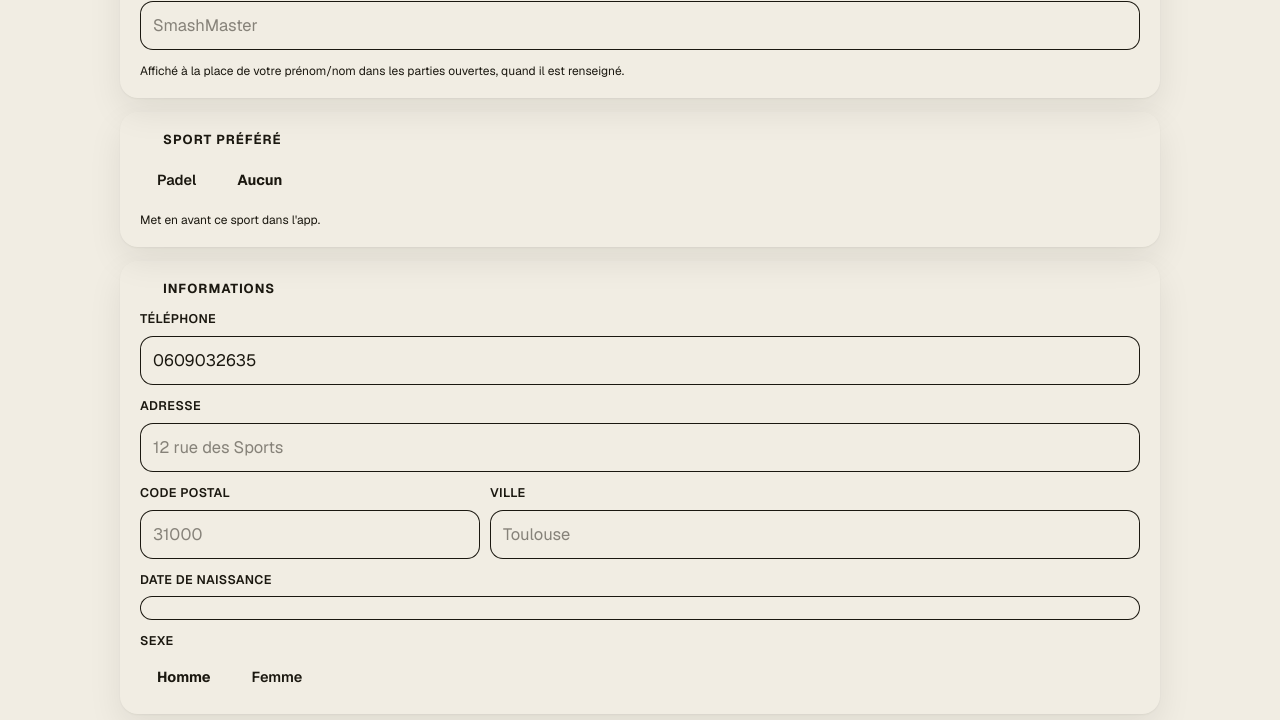
Page Mon profil — onglets + SaveBar › Annuler restaure le brouillon et cache la barre, sans appel réseau
(page scrolled)
Replace the text in the field named "Téléphone" with "0700000000". click: {"x": 640, "y": 360}
box: [153,348,1127,373]
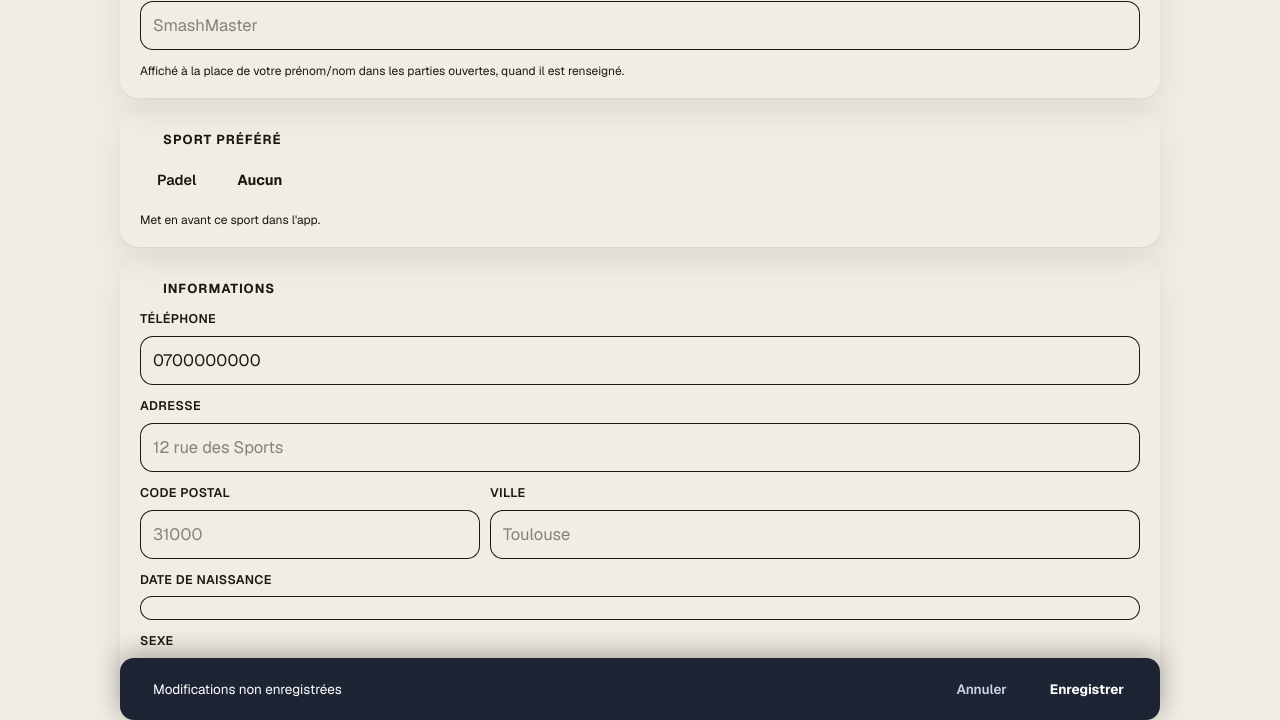
Click the button "Annuler". click: {"x": 982, "y": 689}
box: [941,670,1022,708]
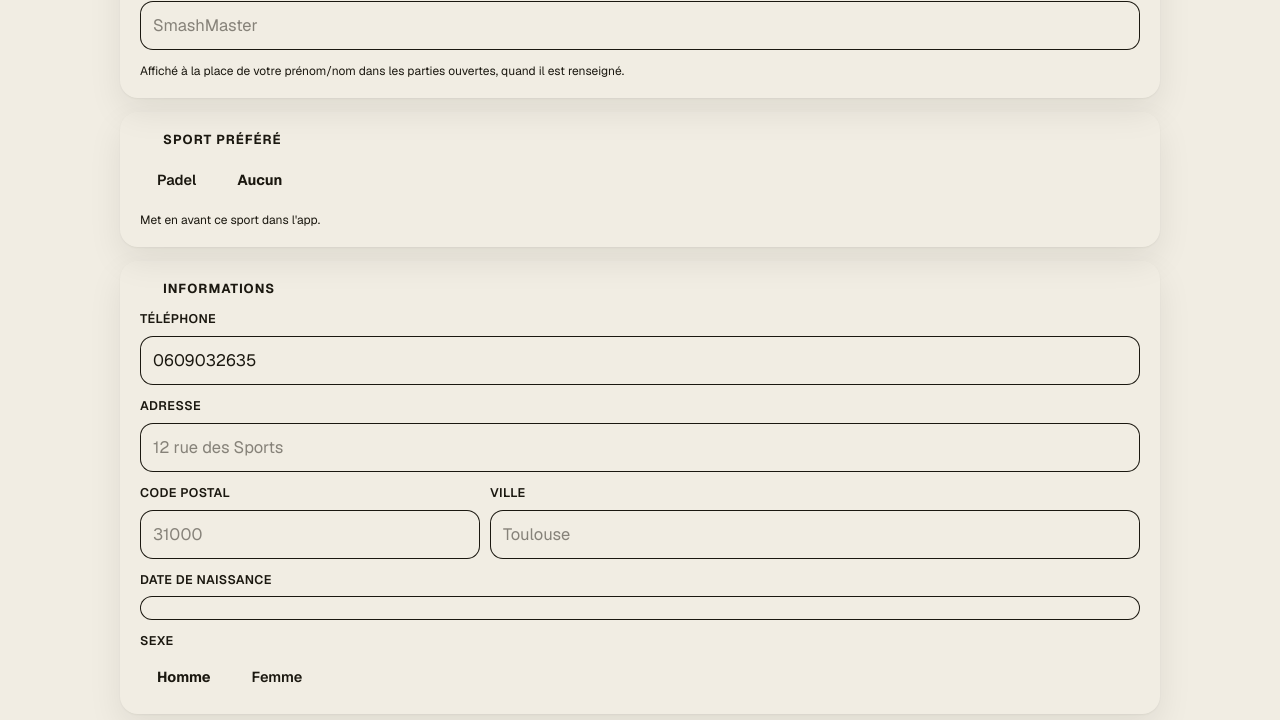
Now the field named "Téléphone" holds "0609032635", box [153,348,1127,373]
Now the text "Modifications non enregistrées" is gone
